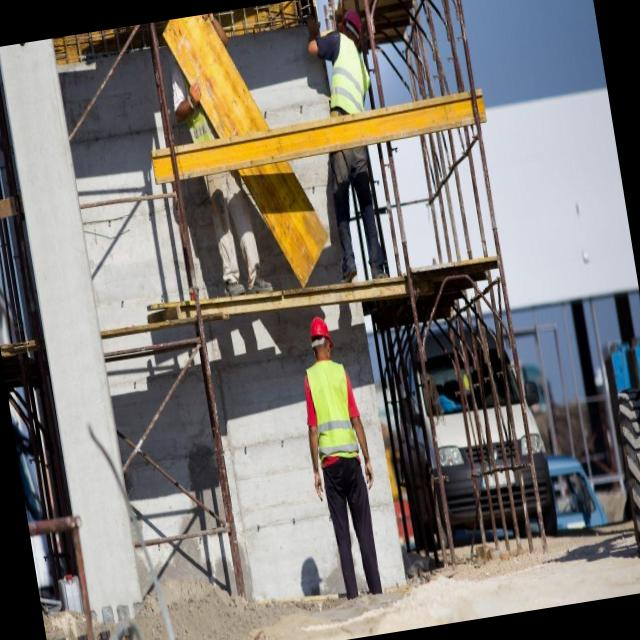helmet: (302, 308, 336, 350)
vest: (303, 348, 362, 464), (321, 27, 372, 119)
